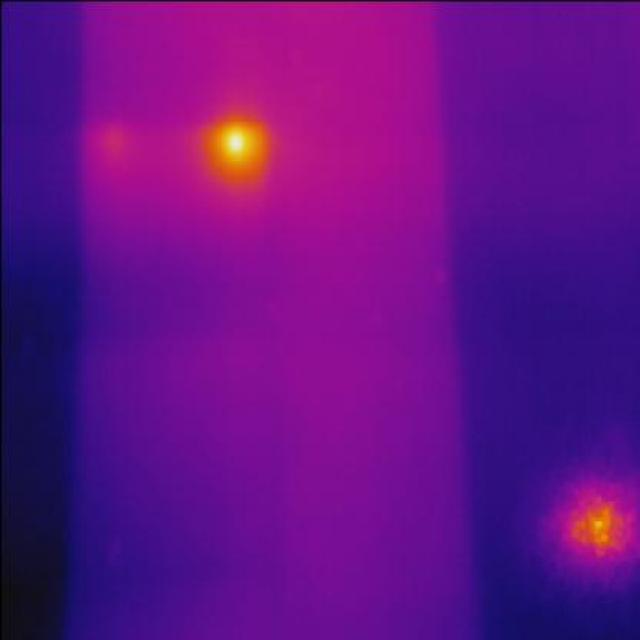hotspot: (202, 112, 280, 186)
